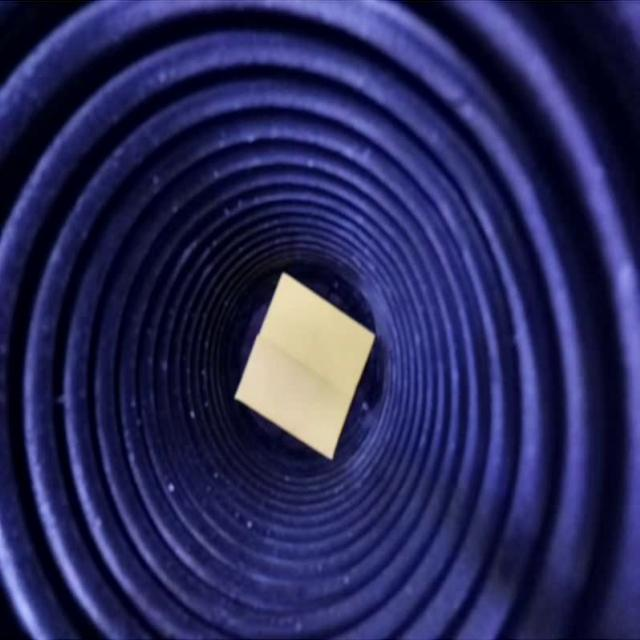obstacles: (236, 272, 375, 465)
